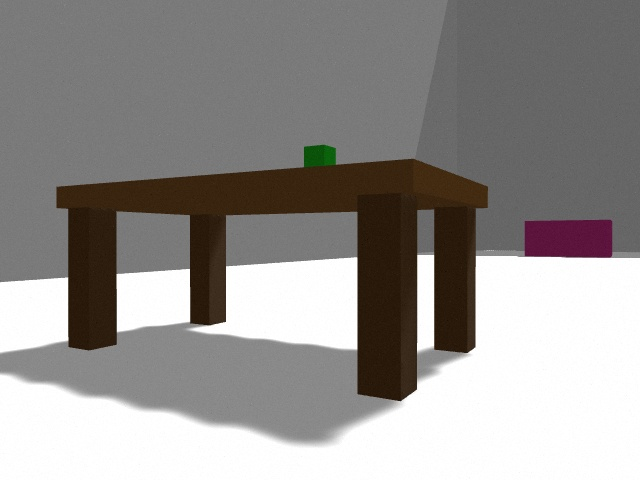green_cube: (304, 145, 336, 167)
red_drop_zone: (525, 220, 612, 258)
